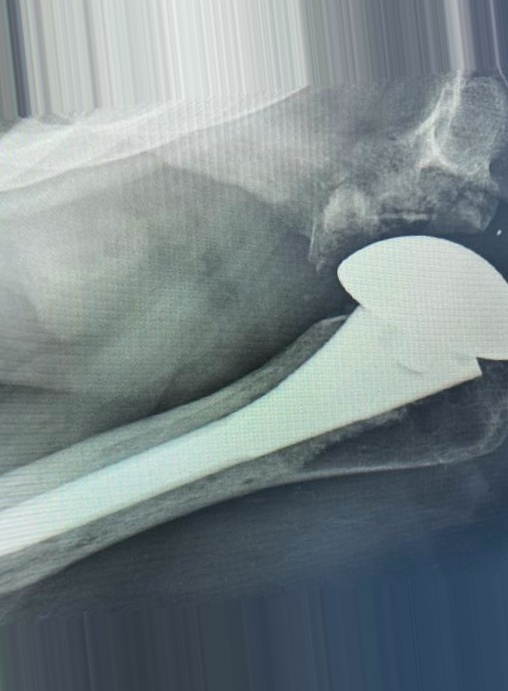Shoulder - Anotomical - Stryker: (326, 228, 508, 390)
